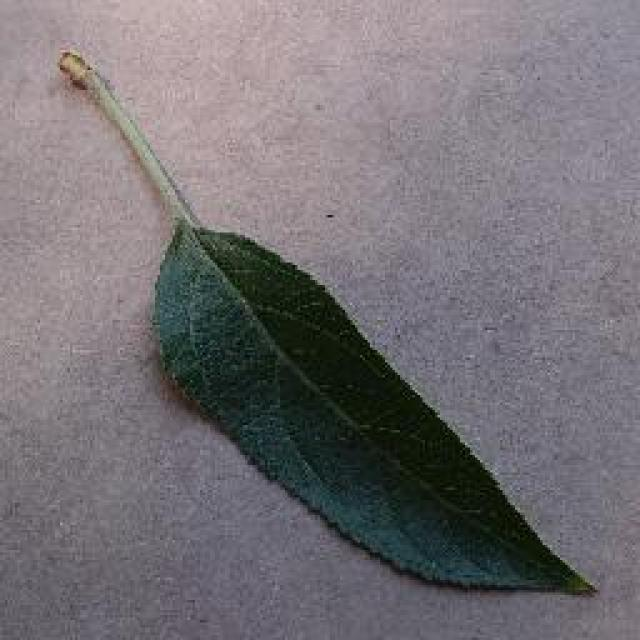apple healthy: (55, 45, 600, 597)
